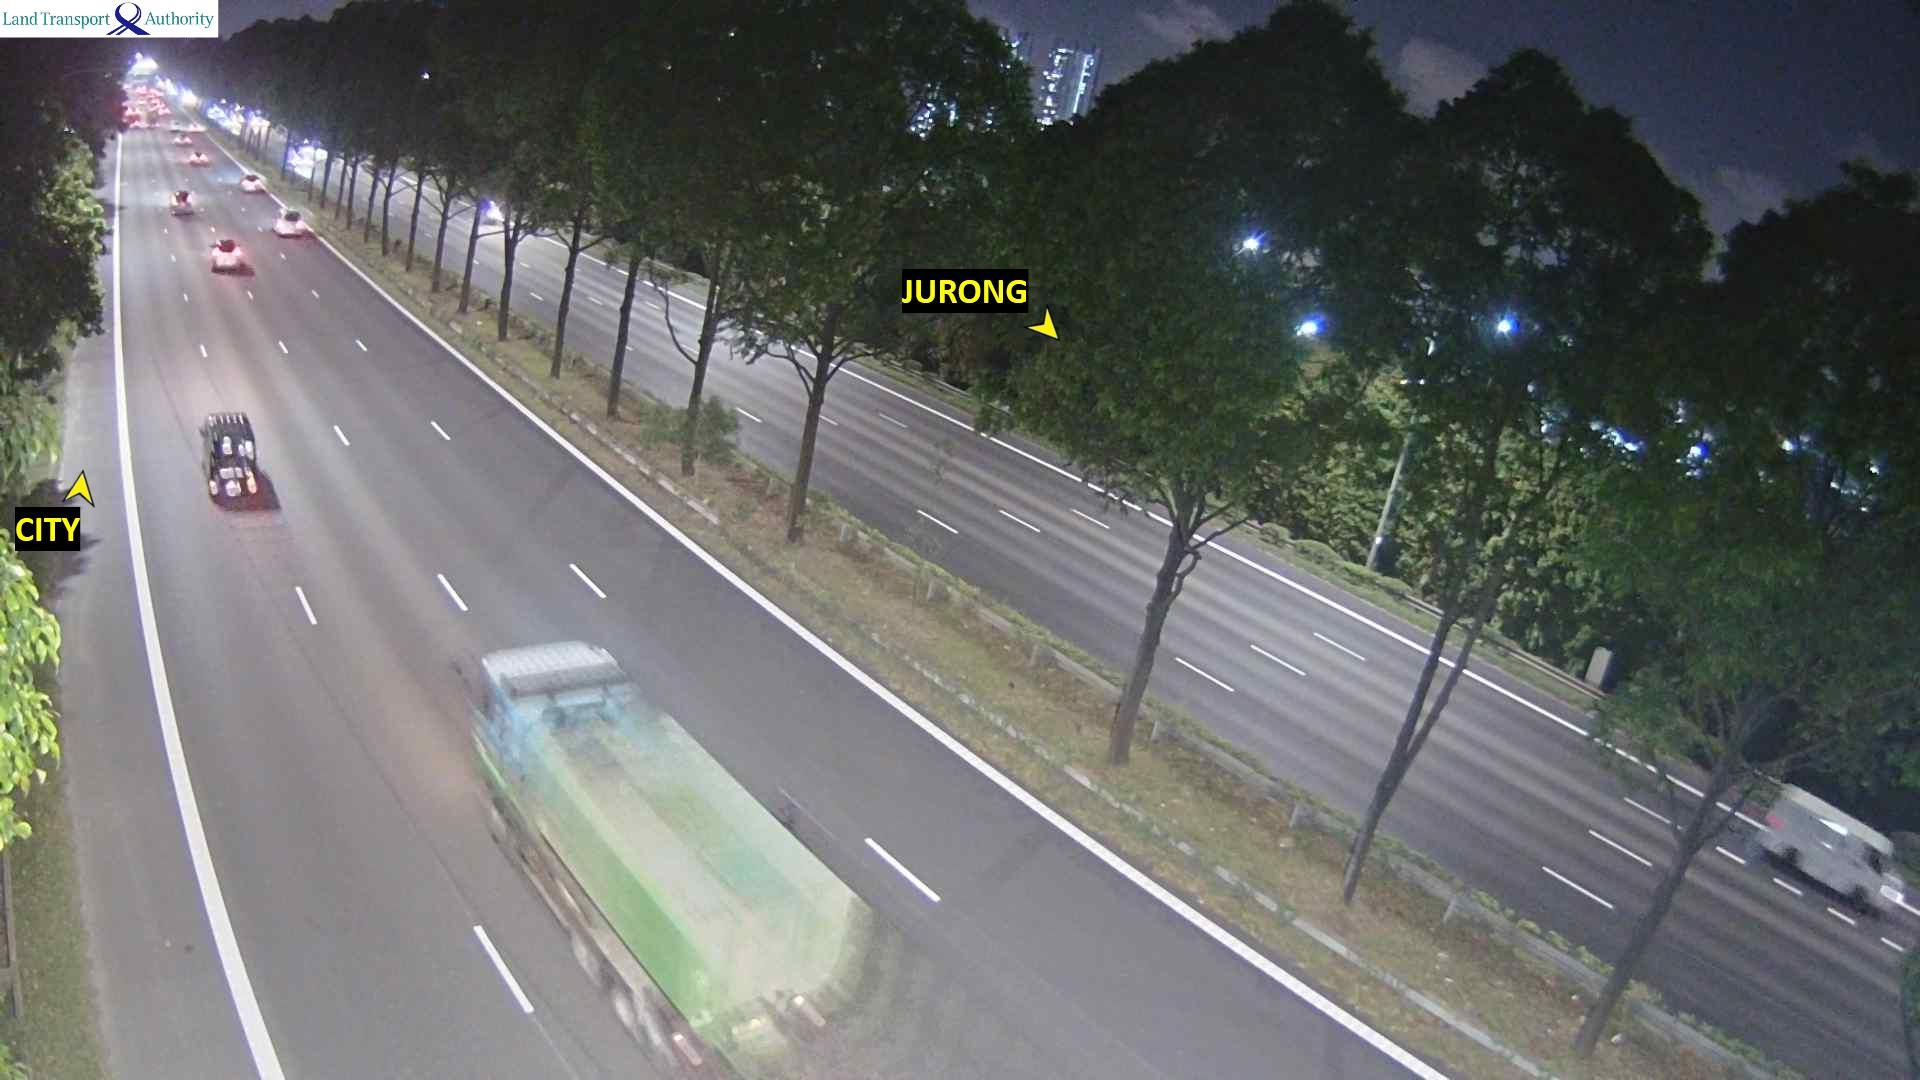incoming: (1862, 839, 1912, 932)
